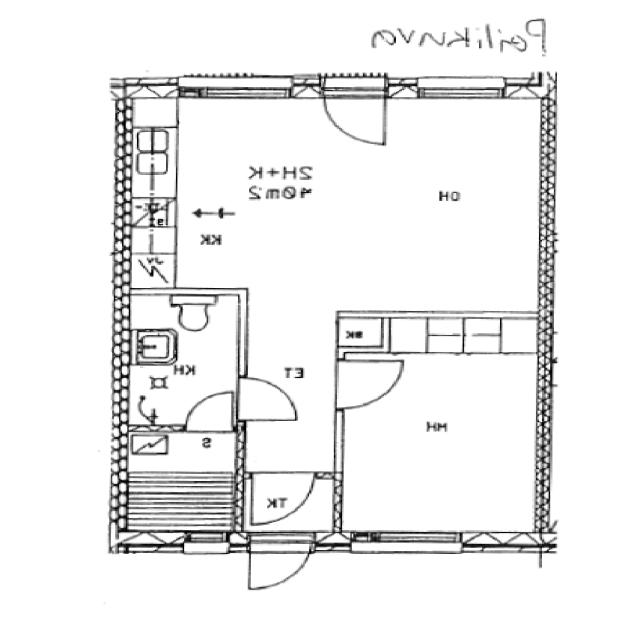door: (237, 468, 327, 535), (320, 78, 393, 151), (242, 530, 318, 592), (328, 355, 408, 413), (232, 370, 303, 429), (180, 386, 240, 436)
window: (118, 424, 243, 541), (352, 525, 471, 557), (183, 75, 301, 106), (409, 79, 510, 106), (177, 529, 237, 560)
zone: (156, 98, 535, 313), (336, 329, 548, 548), (119, 291, 243, 433), (117, 424, 242, 544), (238, 468, 323, 535)
